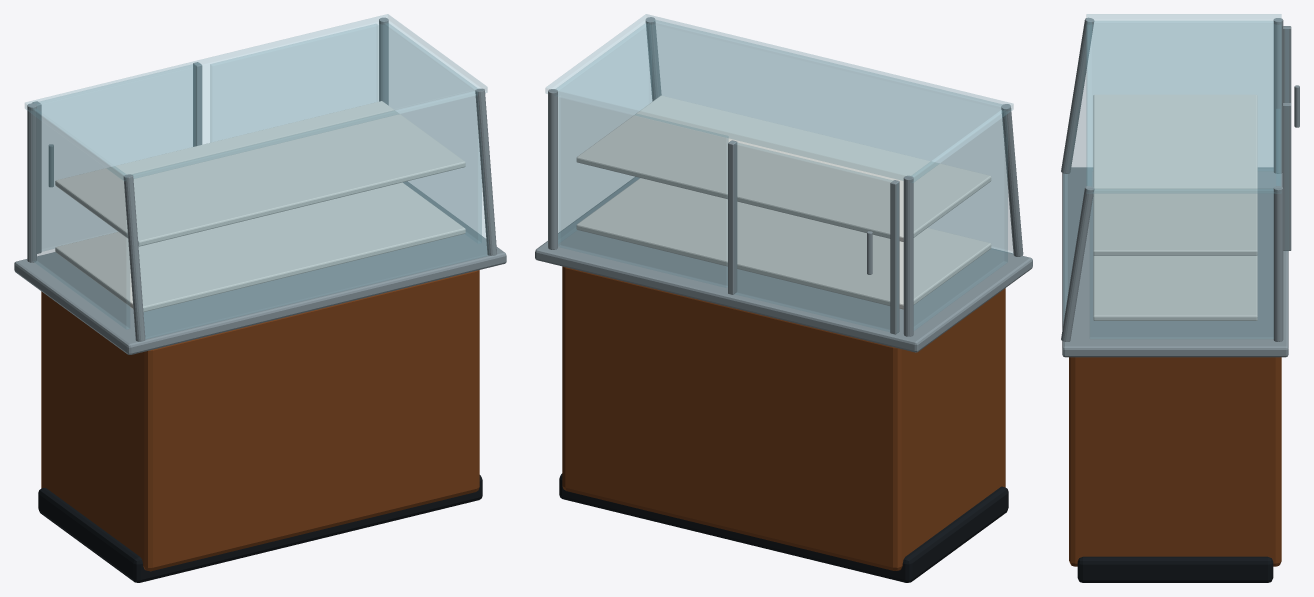
Rendered from edited.glb.
The picture shows the model from 3 angles, left to right: view 1: azimuth 30°, elevation 25°; view 2: azimuth 150°, elevation 25°; view 3: azimuth 270°, elevation 25°; orthographic projection. The views are drawn at different scales.
Visible parts, largest first — view 1: BASE_Cabinet, GLASS_Front, ROOF_Glass, DISPLAY_Tray.001, DISPLAY_Tray, COUNTER, GLASS_Side, DOOR_Glass, REAR_FixedPane, GLASS_Side.001, PLINTH, FRAME_Front (+5 smaller); view 2: BASE_Cabinet, ROOF_Glass, GLASS_Front, DISPLAY_Tray.001, REAR_FixedPane, DOOR_Glass, DISPLAY_Tray, COUNTER, GLASS_Side, GLASS_Side.001, PLINTH, FRAME_Rear (+5 smaller); view 3: BASE_Cabinet, ROOF_Glass, GLASS_Side.001, DISPLAY_Tray.001, COUNTER, GLASS_Side, DISPLAY_Tray, PLINTH, GLASS_Front, FRAME_Rear.001, FRAME_Front.001, FRAME_Front (+4 smaller).
Part boxes in pixels (bbox=[...]): BASE_Cabinet: bbox=[41, 270, 479, 571]; GLASS_Front: bbox=[132, 91, 489, 338]; ROOF_Glass: bbox=[25, 14, 487, 180]; DISPLAY_Tray.001: bbox=[55, 101, 465, 246]; DISPLAY_Tray: bbox=[55, 182, 465, 311]; COUNTER: bbox=[14, 181, 506, 354]; GLASS_Side: bbox=[32, 109, 129, 329]; DOOR_Glass: bbox=[39, 64, 193, 250]; REAR_FixedPane: bbox=[210, 24, 377, 142]; GLASS_Side.001: bbox=[388, 23, 481, 243]; PLINTH: bbox=[38, 475, 482, 582]; FRAME_Front: bbox=[123, 174, 145, 341]; BASE_Cabinet: bbox=[562, 266, 1005, 570]; ROOF_Glass: bbox=[545, 14, 1013, 182]; GLASS_Front: bbox=[655, 20, 1013, 253]; DISPLAY_Tray.001: bbox=[576, 95, 991, 241]; REAR_FixedPane: bbox=[558, 95, 728, 287]; DOOR_Glass: bbox=[730, 141, 898, 332]; DISPLAY_Tray: bbox=[576, 178, 991, 309]; COUNTER: bbox=[535, 176, 1032, 352]; GLASS_Side: bbox=[912, 110, 1007, 330]; GLASS_Side.001: bbox=[556, 23, 651, 243]; PLINTH: bbox=[559, 473, 1008, 582]; FRAME_Rear: bbox=[903, 175, 913, 336]; BASE_Cabinet: bbox=[1069, 357, 1281, 566]; ROOF_Glass: bbox=[1086, 14, 1281, 193]; GLASS_Side.001: bbox=[1090, 189, 1273, 338]; DISPLAY_Tray.001: bbox=[1093, 94, 1257, 255]; COUNTER: bbox=[1062, 167, 1288, 357]; GLASS_Side: bbox=[1092, 21, 1273, 170]; DISPLAY_Tray: bbox=[1093, 255, 1257, 320]; PLINTH: bbox=[1077, 556, 1273, 582]; GLASS_Front: bbox=[1063, 23, 1091, 320]; FRAME_Rear.001: bbox=[1273, 186, 1283, 341]; FRAME_Front.001: bbox=[1061, 186, 1094, 341]; FRAME_Front: bbox=[1061, 17, 1094, 173].
Size of the model in its own units: 1.25 by 1.29 by 0.6967.
